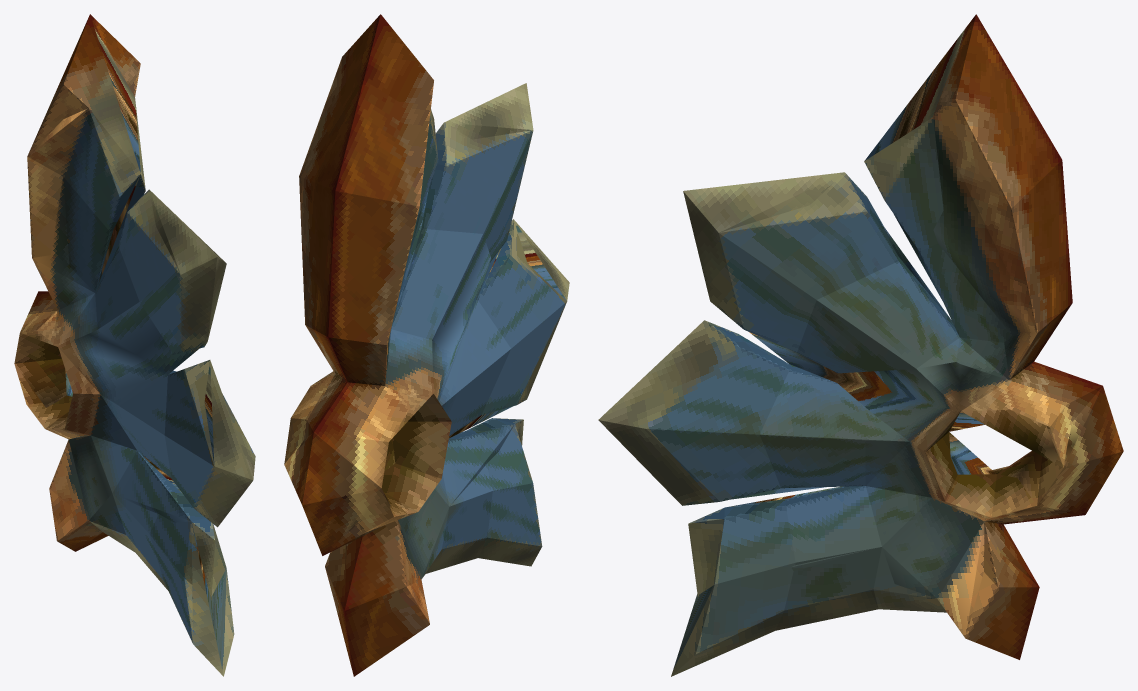
Rendered from item_steampunk_wings.glb.
3 renders of one model, left to right at view 1: azimuth 30°, elevation 25°; view 2: azimuth 150°, elevation 25°; view 3: azimuth 270°, elevation 25°, orthographic. The views are drawn at different scales.
Visible parts, largest first — view 1: wings; view 2: wings; view 3: wings.
Part boxes in pixels (box(x1,y1,x2,y2)): wings: box(14, 14, 255, 676); wings: box(284, 14, 569, 676); wings: box(598, 14, 1123, 676).
Size of the model in its own units: 0.2211 by 1.17 by 0.8423.
1 material, 1 textured.
